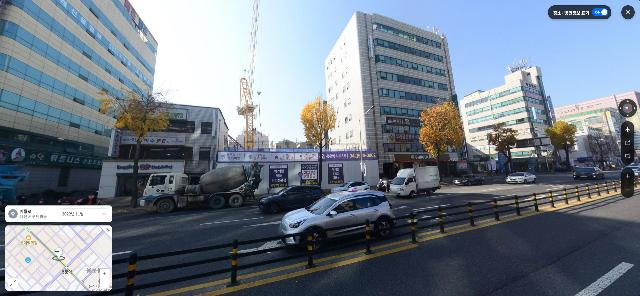ginkgo: (93, 85, 174, 207), (300, 97, 341, 188), (419, 102, 464, 180), (547, 120, 579, 172)
other: (487, 123, 519, 173)
